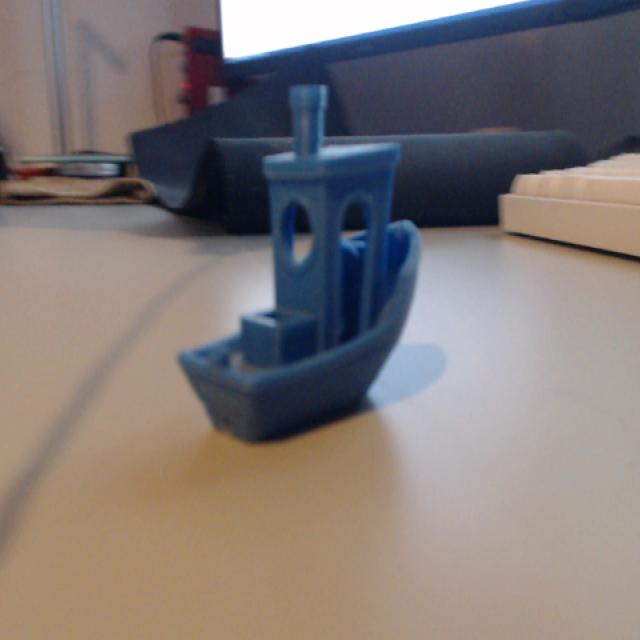benchy: (175, 80, 424, 443)
